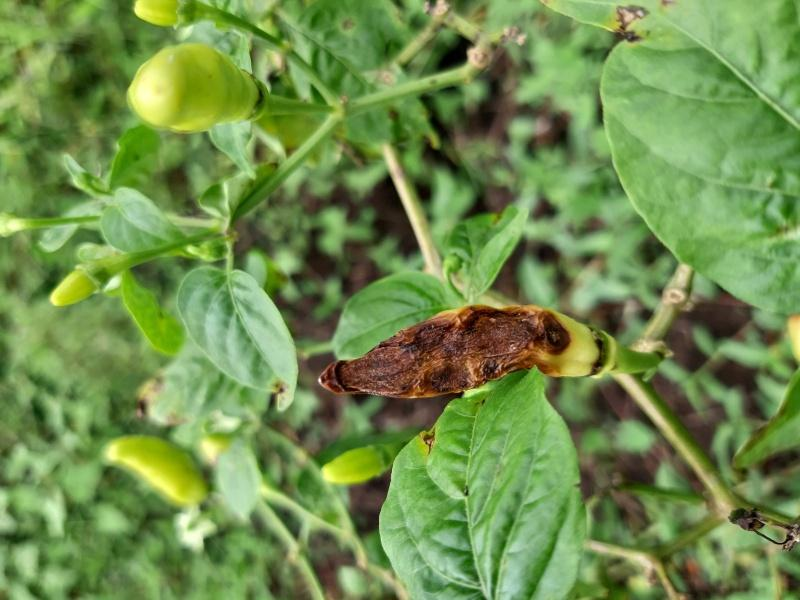antraknosa: (317, 307, 600, 398)
cabai_normal: (126, 45, 256, 131), (104, 435, 210, 504), (319, 444, 380, 486), (46, 269, 93, 309)
